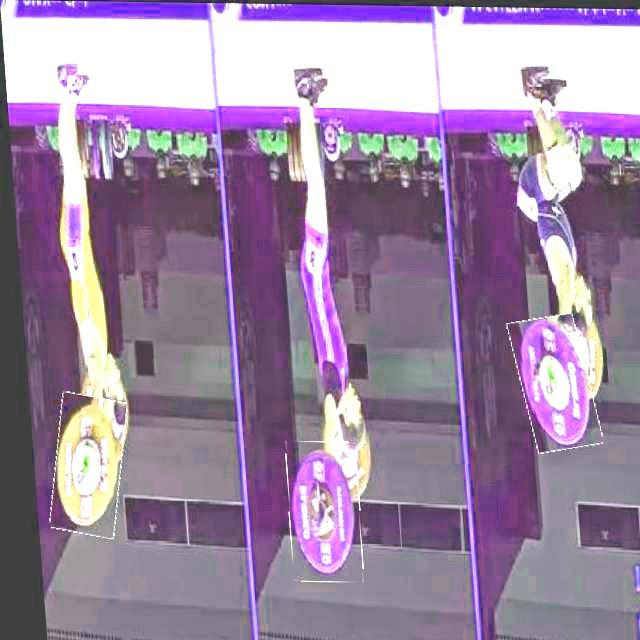barbell: (40, 394, 123, 537), (507, 313, 592, 450), (277, 440, 357, 582)
